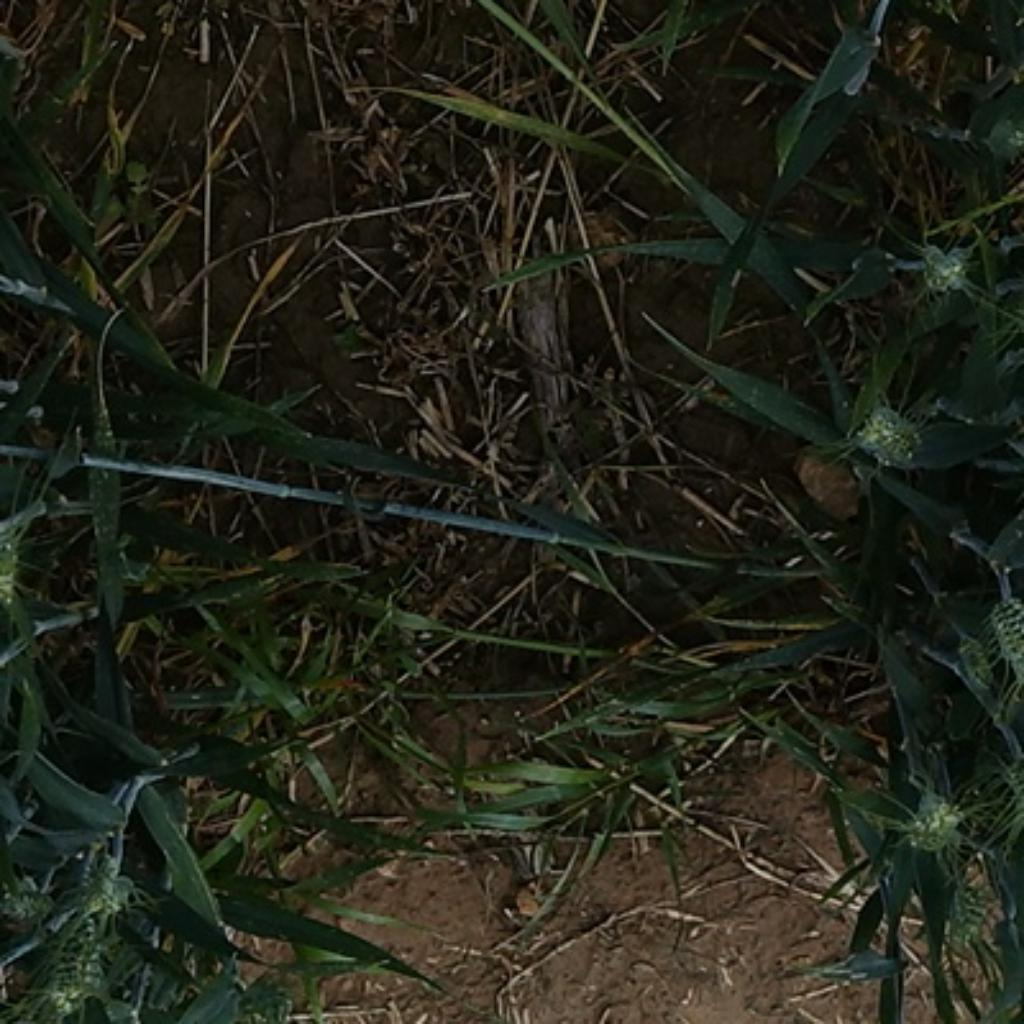0-0: (35, 908, 122, 1018), (929, 857, 1006, 949), (847, 393, 929, 467), (71, 843, 143, 923), (893, 785, 972, 857), (918, 238, 986, 302), (979, 588, 1024, 678), (2, 877, 53, 927)
